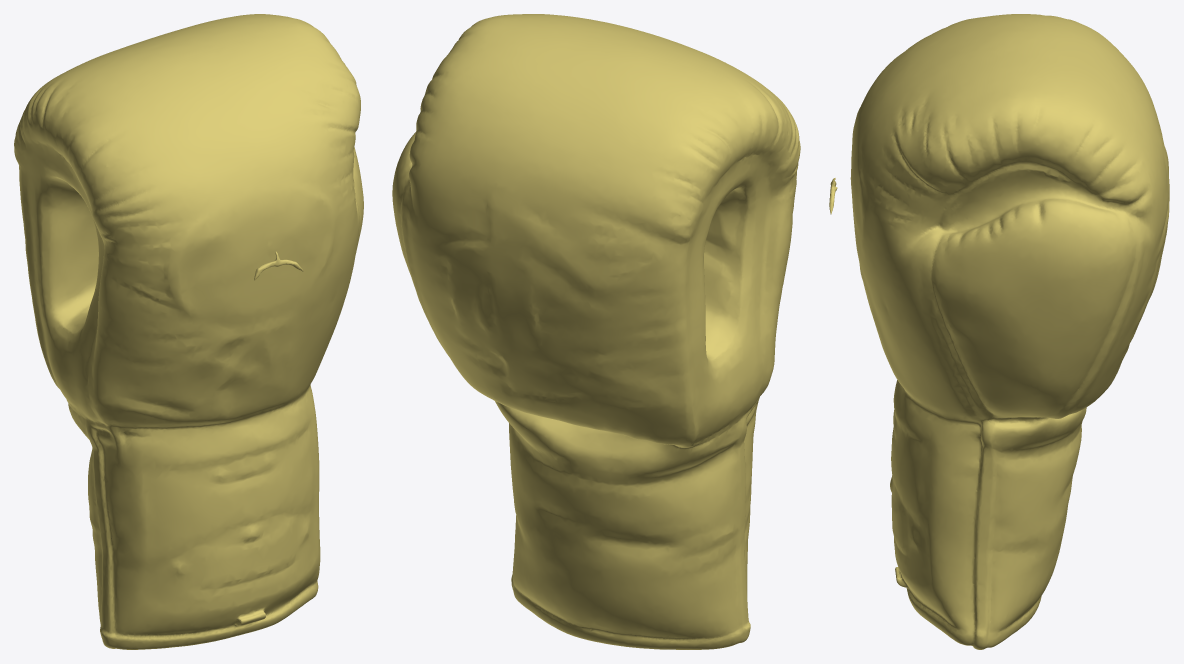
The model's file is glove.glb.
The picture shows the model from 3 angles, left to right: view 1: azimuth 30°, elevation 25°; view 2: azimuth 150°, elevation 25°; view 3: azimuth 270°, elevation 25°; orthographic projection. The views are drawn at different scales.
Parts seen in each view (by area): view 1: mesh_node; view 2: mesh_node; view 3: mesh_node.
Part boxes in pixels (box(x1,y1,x2,y2)): mesh_node: box(14, 14, 363, 649); mesh_node: box(392, 14, 800, 649); mesh_node: box(829, 14, 1169, 649).
Bounding box in the file's own units: 1.08 × 1.9 × 1.04.
